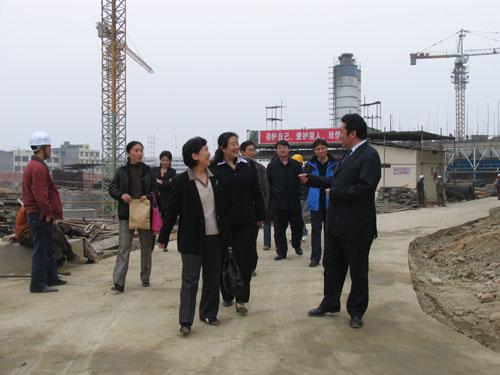head: (338, 111, 368, 150), (182, 133, 211, 172), (217, 130, 241, 162), (124, 136, 145, 164), (238, 138, 257, 164), (310, 136, 331, 158), (272, 138, 292, 158), (157, 149, 175, 171)
helmet: (26, 127, 55, 163)
